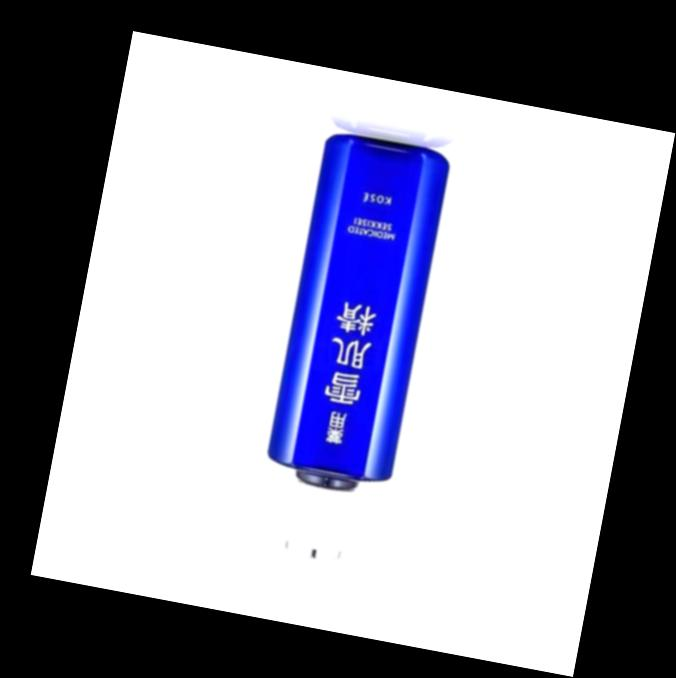cosmetic: (242, 127, 454, 566)
